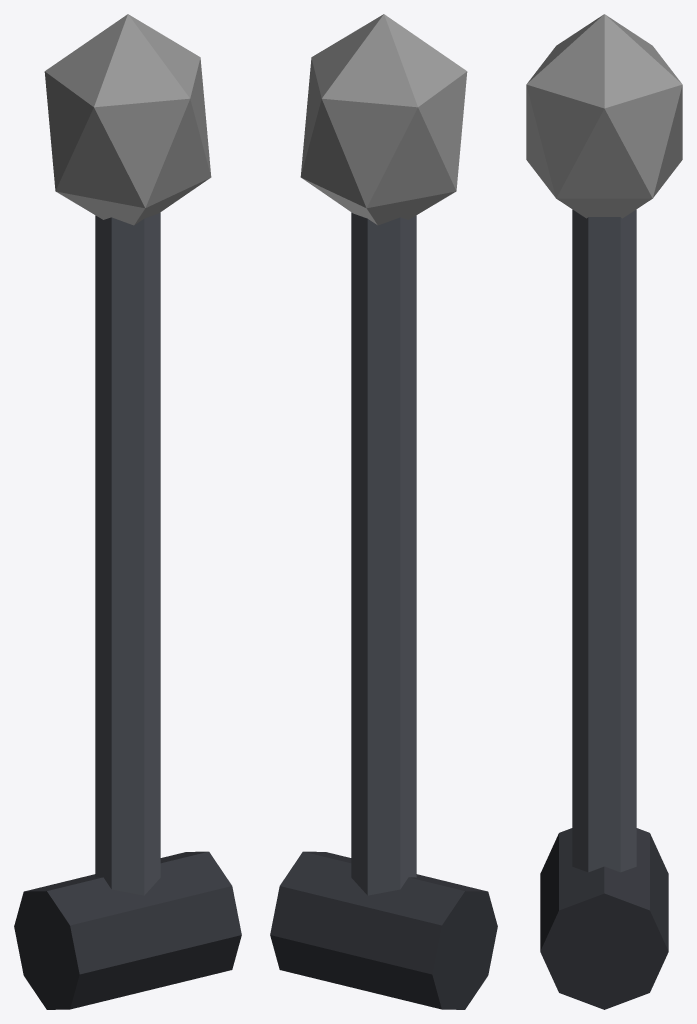
Rendered from lever_handle.fbx.
3 views of the same model, side by side, from view 1: azimuth 30°, elevation 25°; view 2: azimuth 150°, elevation 25°; view 3: azimuth 270°, elevation 25° (orthographic).
Parts seen in each view (by area): view 1: Handle; view 2: Handle; view 3: Handle.
Part boxes in pixels (x1,y1,x2,y2): Handle: (14, 14, 241, 1009); Handle: (270, 14, 497, 1009); Handle: (526, 14, 682, 1009).
Size of the model in its own units: 0.2 by 1.15 by 0.1701.
Materials: 1 (1 with a texture image).
